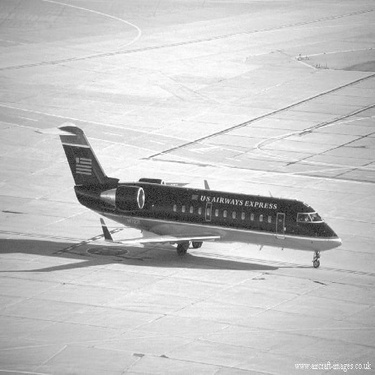airplane: (23, 115, 347, 270)
